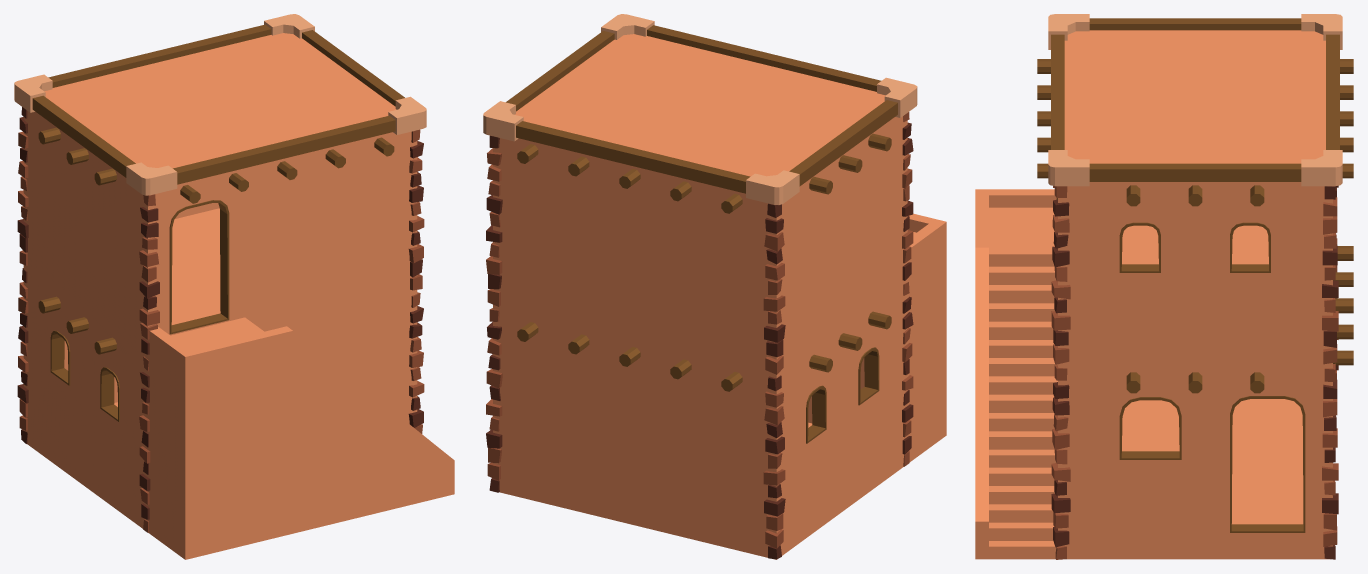
File: House.006.fbx
3 renders of one model, left to right at view 1: azimuth 30°, elevation 25°; view 2: azimuth 150°, elevation 25°; view 3: azimuth 270°, elevation 25°, orthographic. The views are drawn at different scales.
Parts seen in each view (by area): view 1: NewHouse.006; view 2: NewHouse.006; view 3: NewHouse.006.
Boxes of the visible parts, x1=… form: NewHouse.006: x1=14, y1=14, x2=454, y2=559; NewHouse.006: x1=483, y1=14, x2=946, y2=559; NewHouse.006: x1=975, y1=14, x2=1353, y2=559.
Size of the model in its own units: 5.6 by 6.35 by 5.5.
